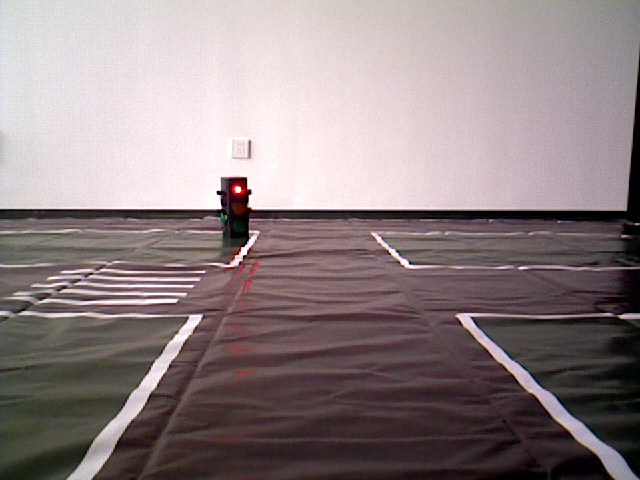red: (221, 177, 247, 238)
